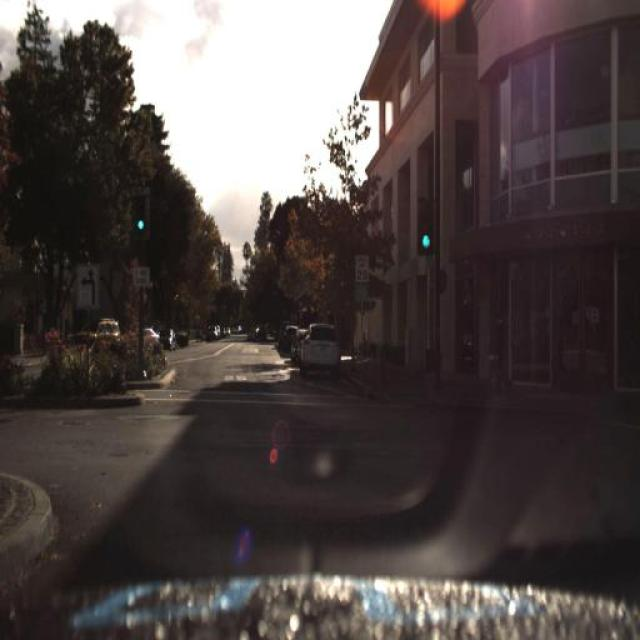car: (72, 307, 121, 358), (301, 318, 343, 368), (84, 302, 128, 342), (138, 318, 162, 342), (157, 326, 176, 355), (162, 320, 180, 345)
trafficLight: (493, 310, 512, 391), (496, 303, 513, 391)
trafficLight-Green: (420, 199, 434, 253), (132, 206, 149, 246)
trafficLight-GreenLeft: (134, 196, 145, 234)
